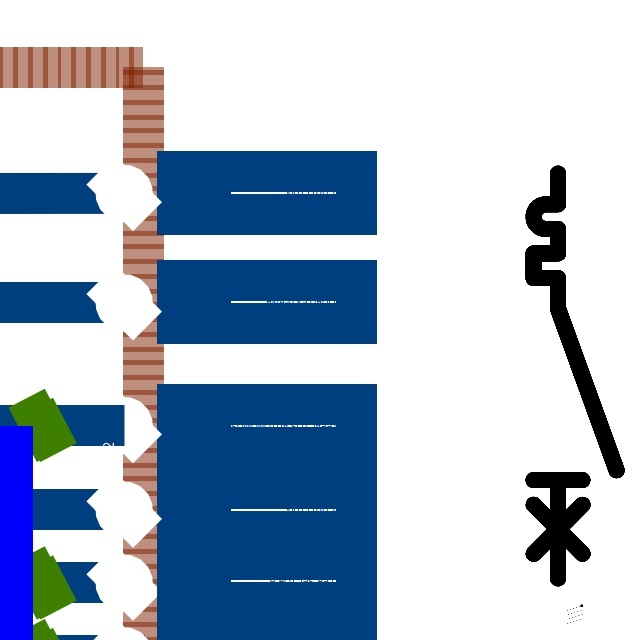interruptor_termomagnetico: (523, 163, 627, 589)
